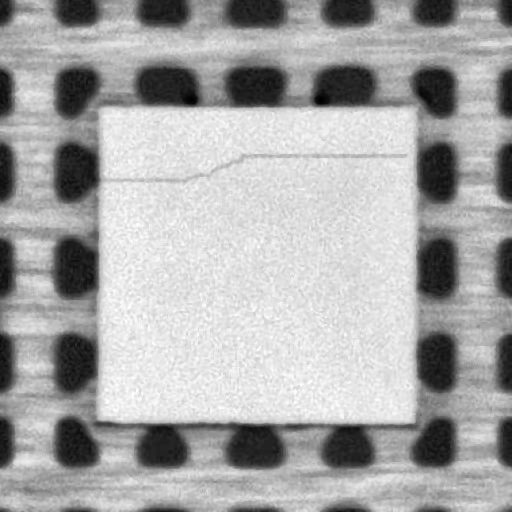DIE_CRACK: (99, 150, 413, 184)
